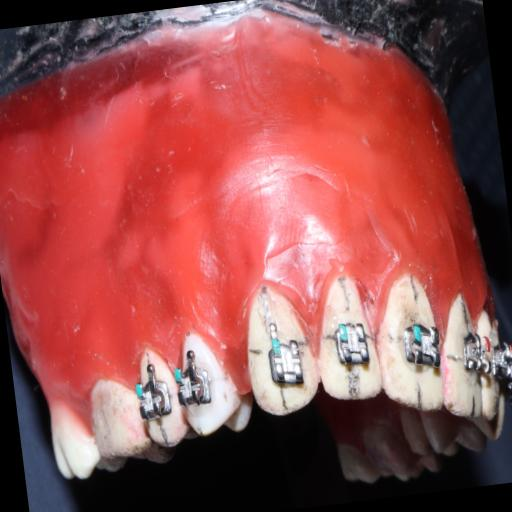incorrect_brace: (310, 272, 383, 408), (266, 334, 306, 386), (330, 321, 372, 370)
